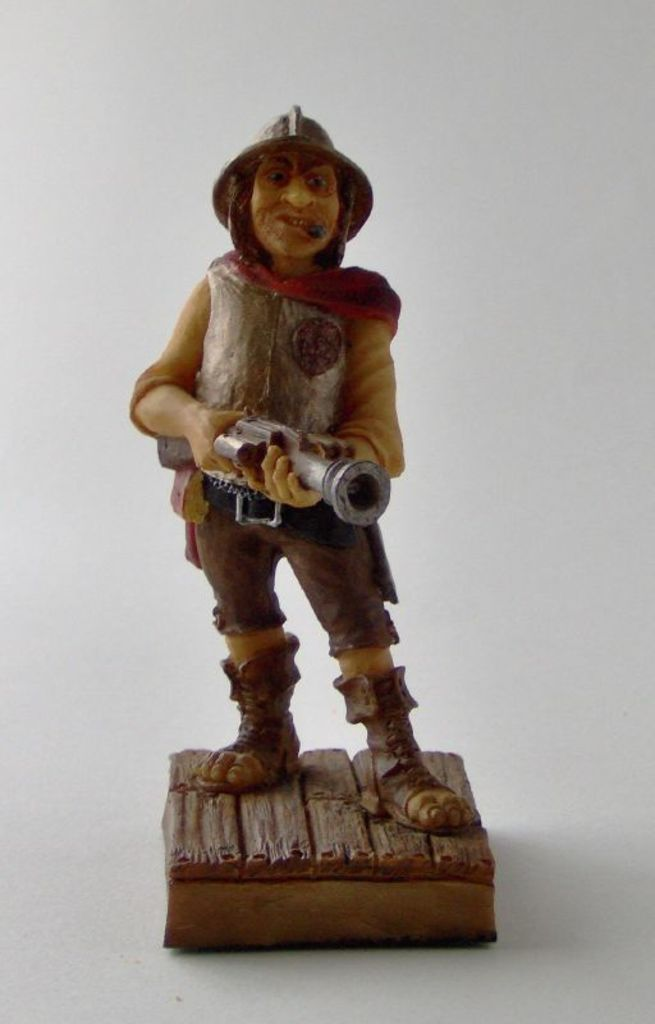Person: (129, 105, 474, 835)
